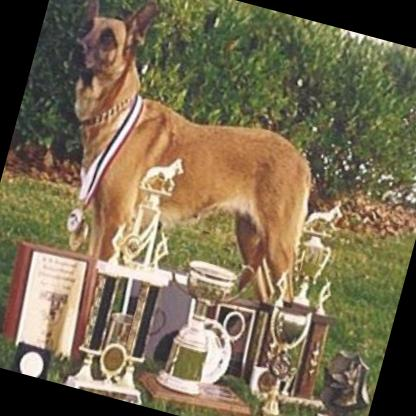malinois: (13, 0, 355, 312)
